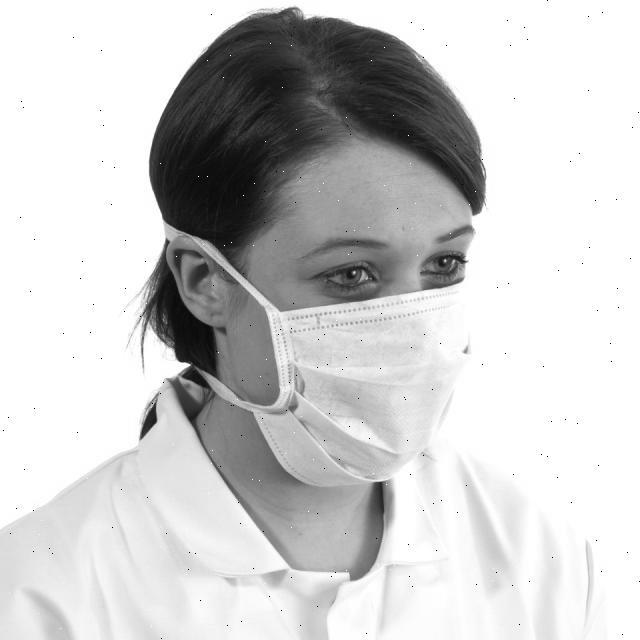fake: (260, 298, 476, 488)
real: (227, 137, 475, 487)
